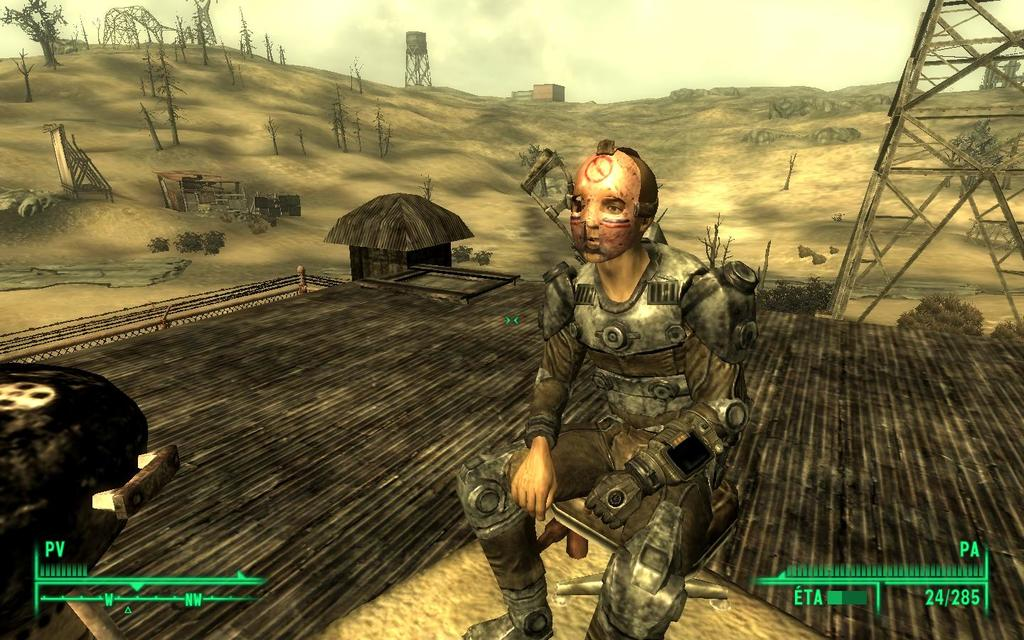Person: (453, 137, 762, 640)
